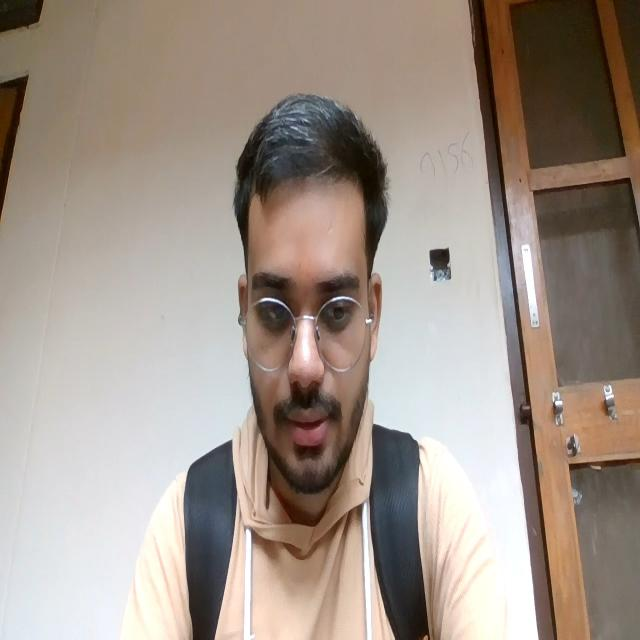awake: (240, 245, 366, 440)
